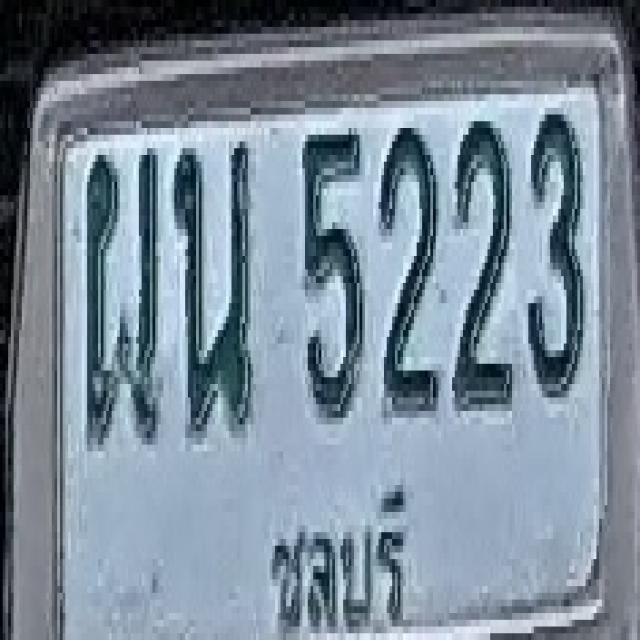-: (173, 138, 252, 435), (84, 145, 158, 441)
2: (452, 115, 512, 404), (380, 121, 437, 411)
3: (527, 105, 584, 394)
5: (302, 128, 362, 418)
CBI: (257, 464, 431, 640)
